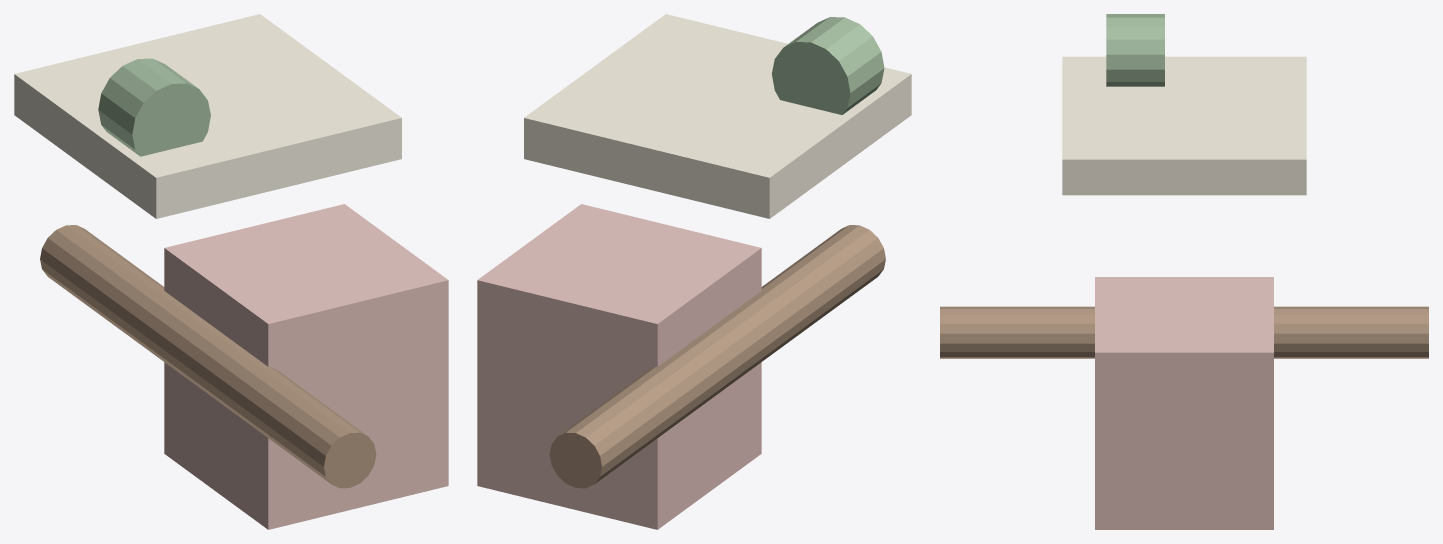
Rendered from cat_tree.glb.
3 views of the same model, side by side, from view 1: azimuth 30°, elevation 25°; view 2: azimuth 150°, elevation 25°; view 3: azimuth 270°, elevation 25° (orthographic). The views are drawn at different scales.
Parts seen in each view (by area): view 1: part_02, part_01, part_00, part_03; view 2: part_02, part_01, part_00, part_03; view 3: part_02, part_01, part_00, part_03.
Boxes of the visible parts, box(x1,y1,x2,y2) form: part_02: box(164, 204, 448, 529); part_01: box(14, 14, 401, 218); part_00: box(40, 225, 376, 488); part_03: box(98, 58, 210, 156); part_02: box(477, 204, 761, 529); part_01: box(524, 14, 911, 218); part_00: box(549, 225, 885, 488); part_03: box(772, 17, 884, 114); part_02: box(1095, 277, 1273, 529); part_01: box(1062, 56, 1306, 195); part_00: box(940, 306, 1428, 358); part_03: box(1106, 14, 1164, 86).
Size of the model in its own units: 0.95 by 1.35 by 1.5.
